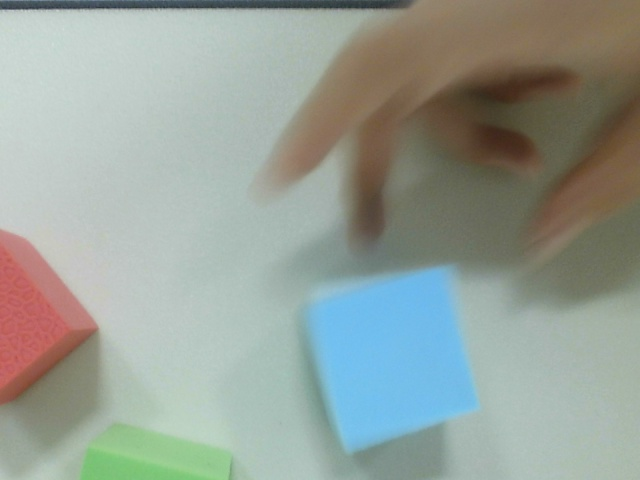greencube: (68, 420, 257, 480)
